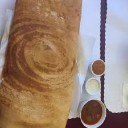dosa: (4, 1, 81, 127)
